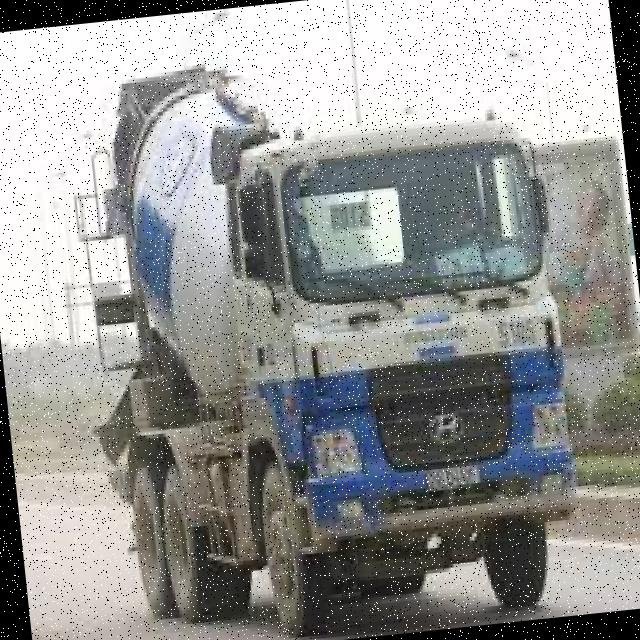Mixer Truck: (55, 27, 593, 640)
